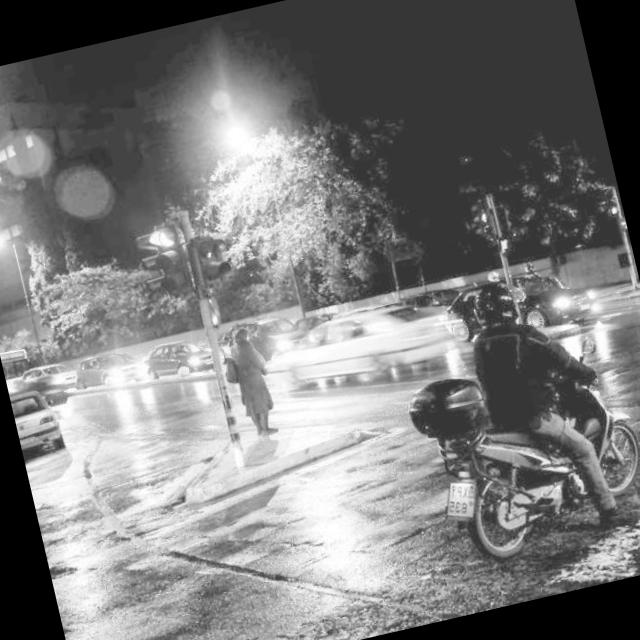Car: (265, 278, 464, 402), (436, 237, 618, 361), (127, 326, 207, 392), (69, 337, 144, 402)
Motorcycle: (397, 314, 640, 580)
